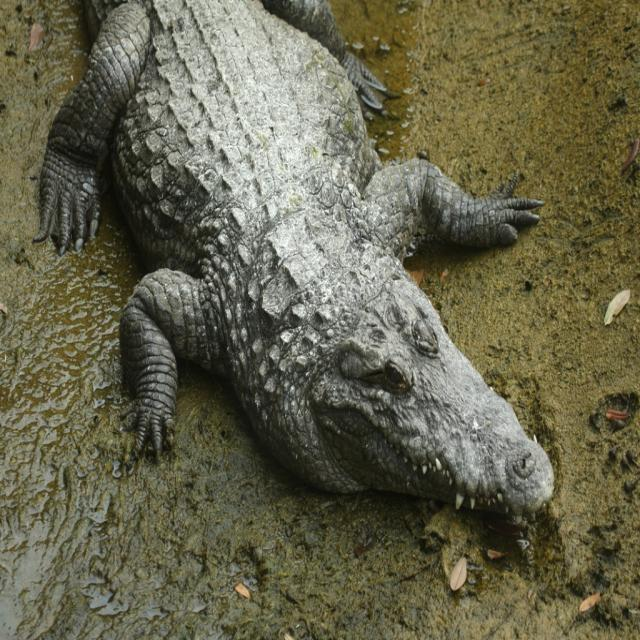crocodile: (34, 0, 564, 526)
